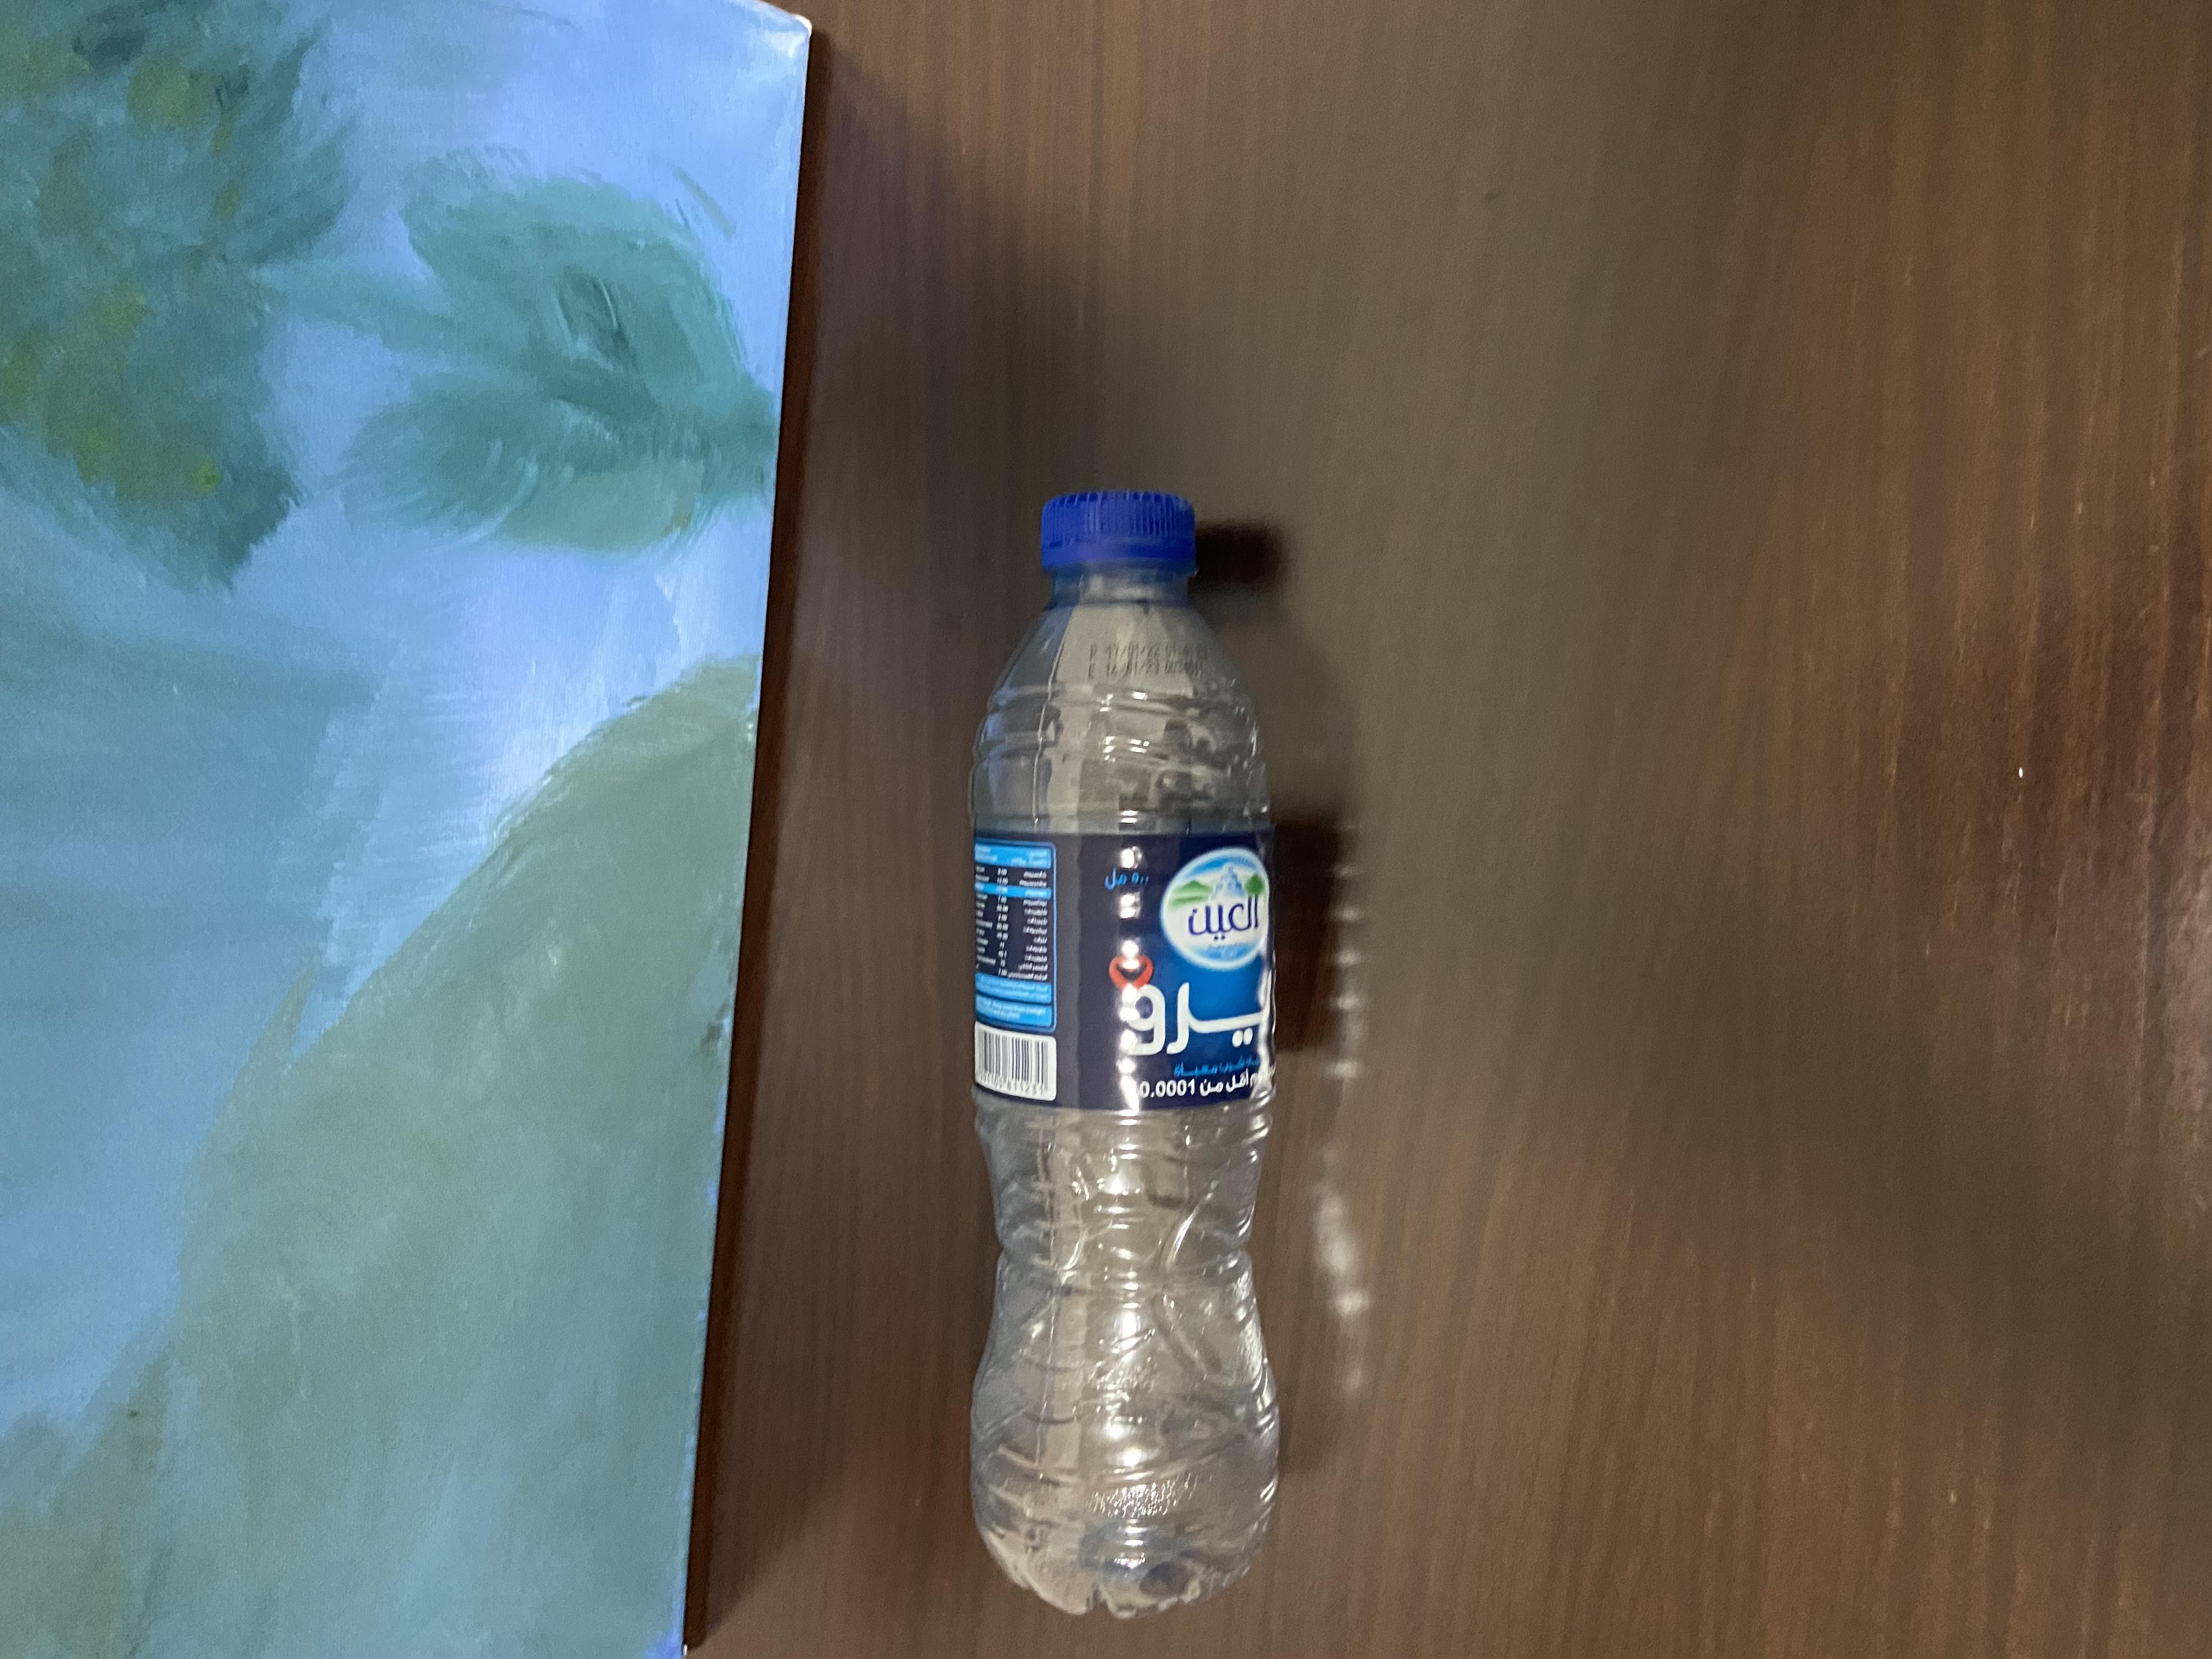bottle: (56, 713, 1597, 1004)
